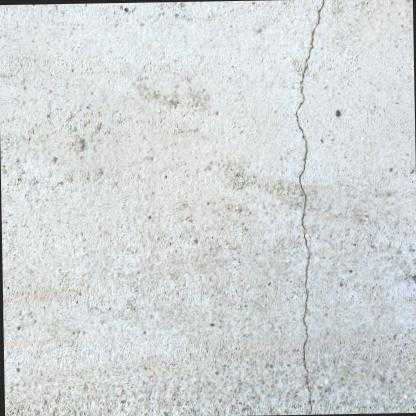crack: (294, 0, 324, 410)
